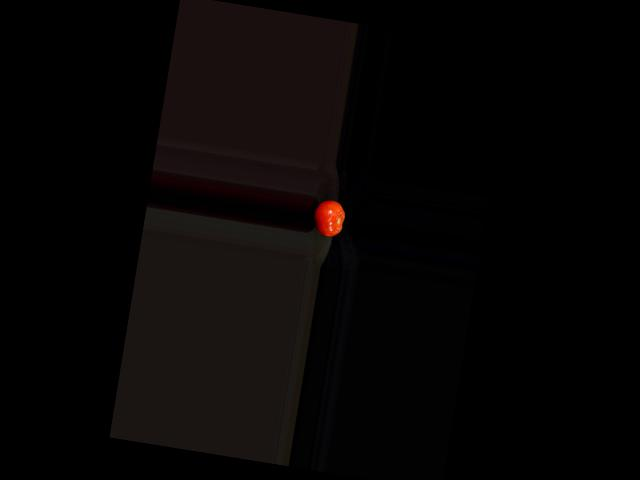tomato: (310, 197, 347, 238)
